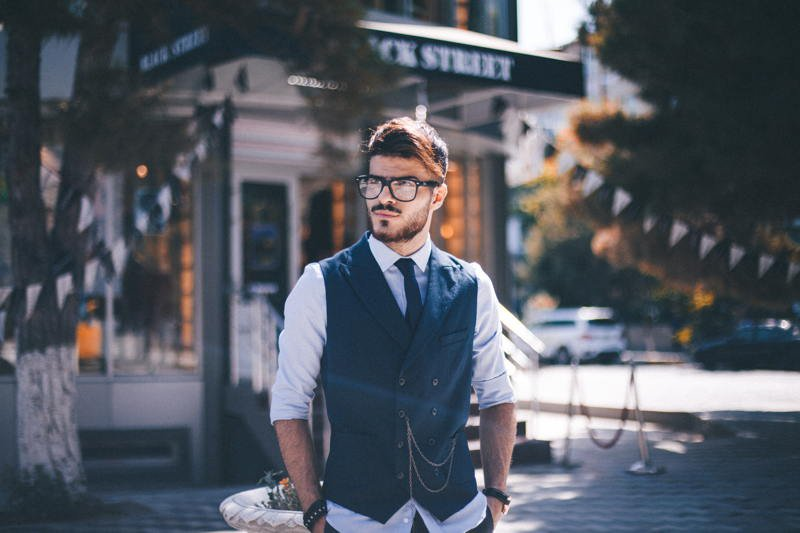noMask: (338, 109, 459, 270)
